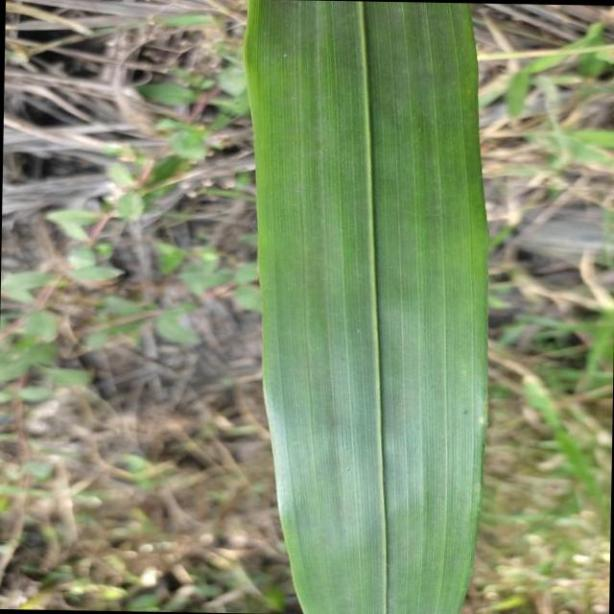Healthy: (250, 3, 490, 614)
